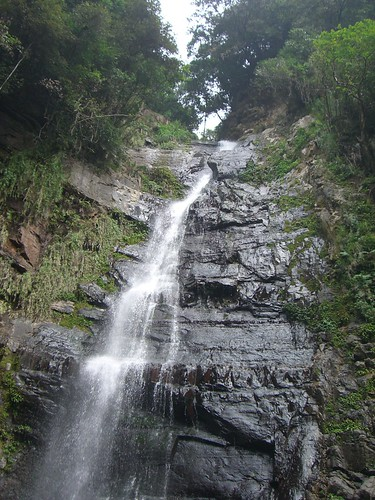wufengciWaterfall: (54, 125, 282, 500)
